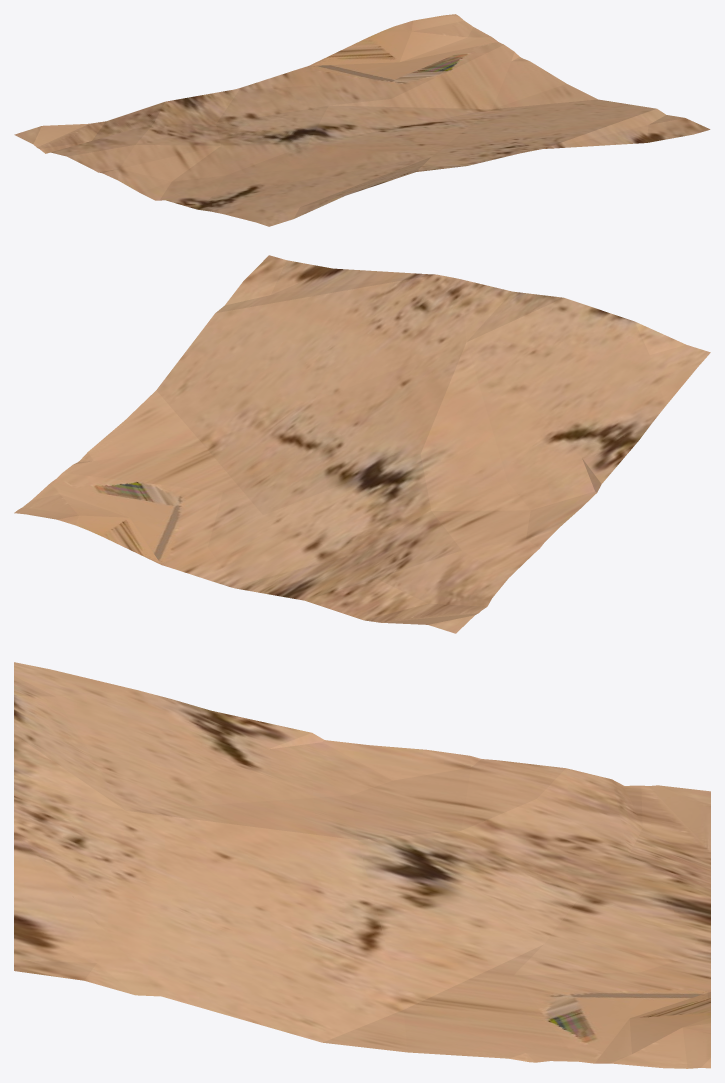
3 renders of one model, top to bottom at view 1: azimuth 30°, elevation 25°; view 2: azimuth 150°, elevation 25°; view 3: azimuth 270°, elevation 25°, orthographic. The views are drawn at different scales.
Size of the model in its own units: 2.09 by 0.5535 by 2.09.
Materials: 3 (3 with a texture image).
